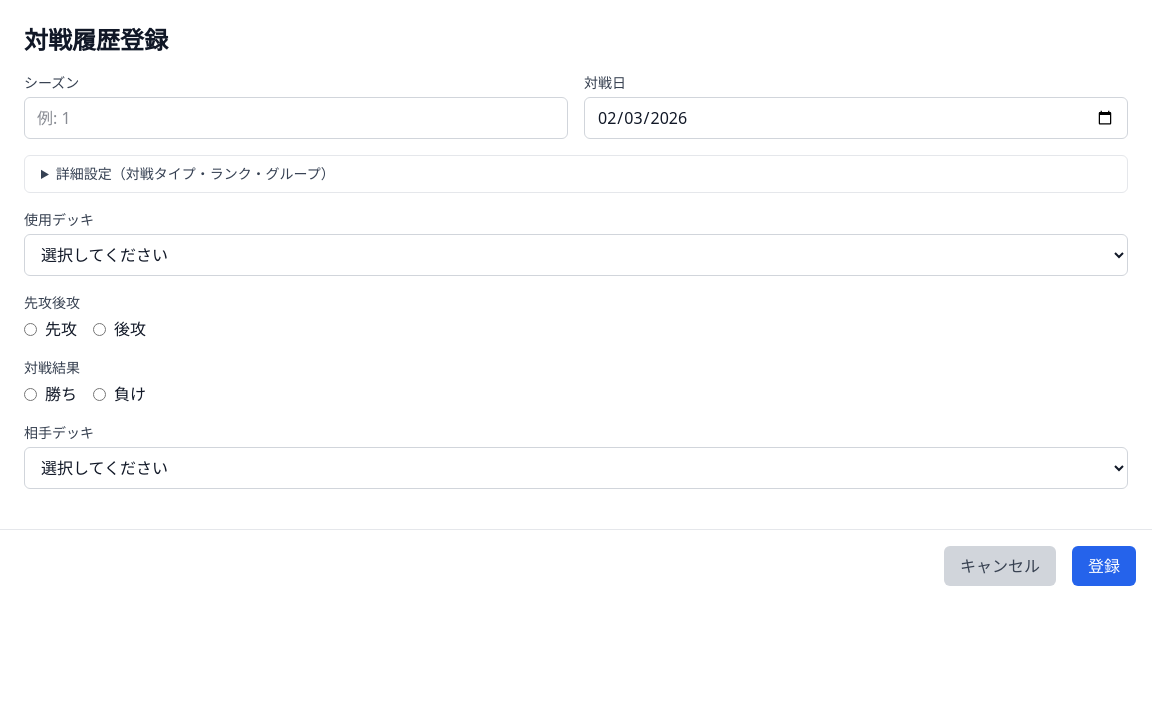
it: BattleLogForm › 異常系テスト › TC-FORM-ERR-002: 必須項目未入力でバリデーションエラーが表示される（myDeckId）
The image size is (1152, 720).
What coordinates should you click on to do the following:
click the button "登録"
I would click on:
 (1104, 566)
Its box is [1072,546,1136,586].
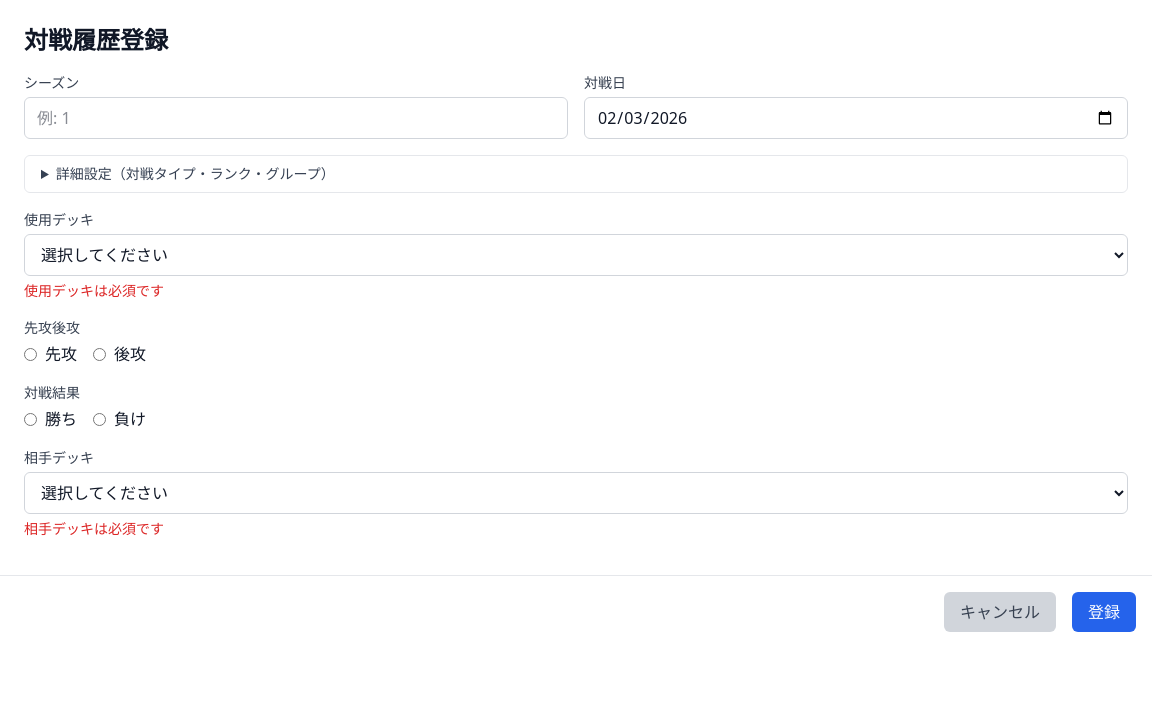
Check: the text "使用デッキは必須です" is shown, box [24,281,164,300]
Check: the button "登録" is disabled, box [1072,592,1136,632]
